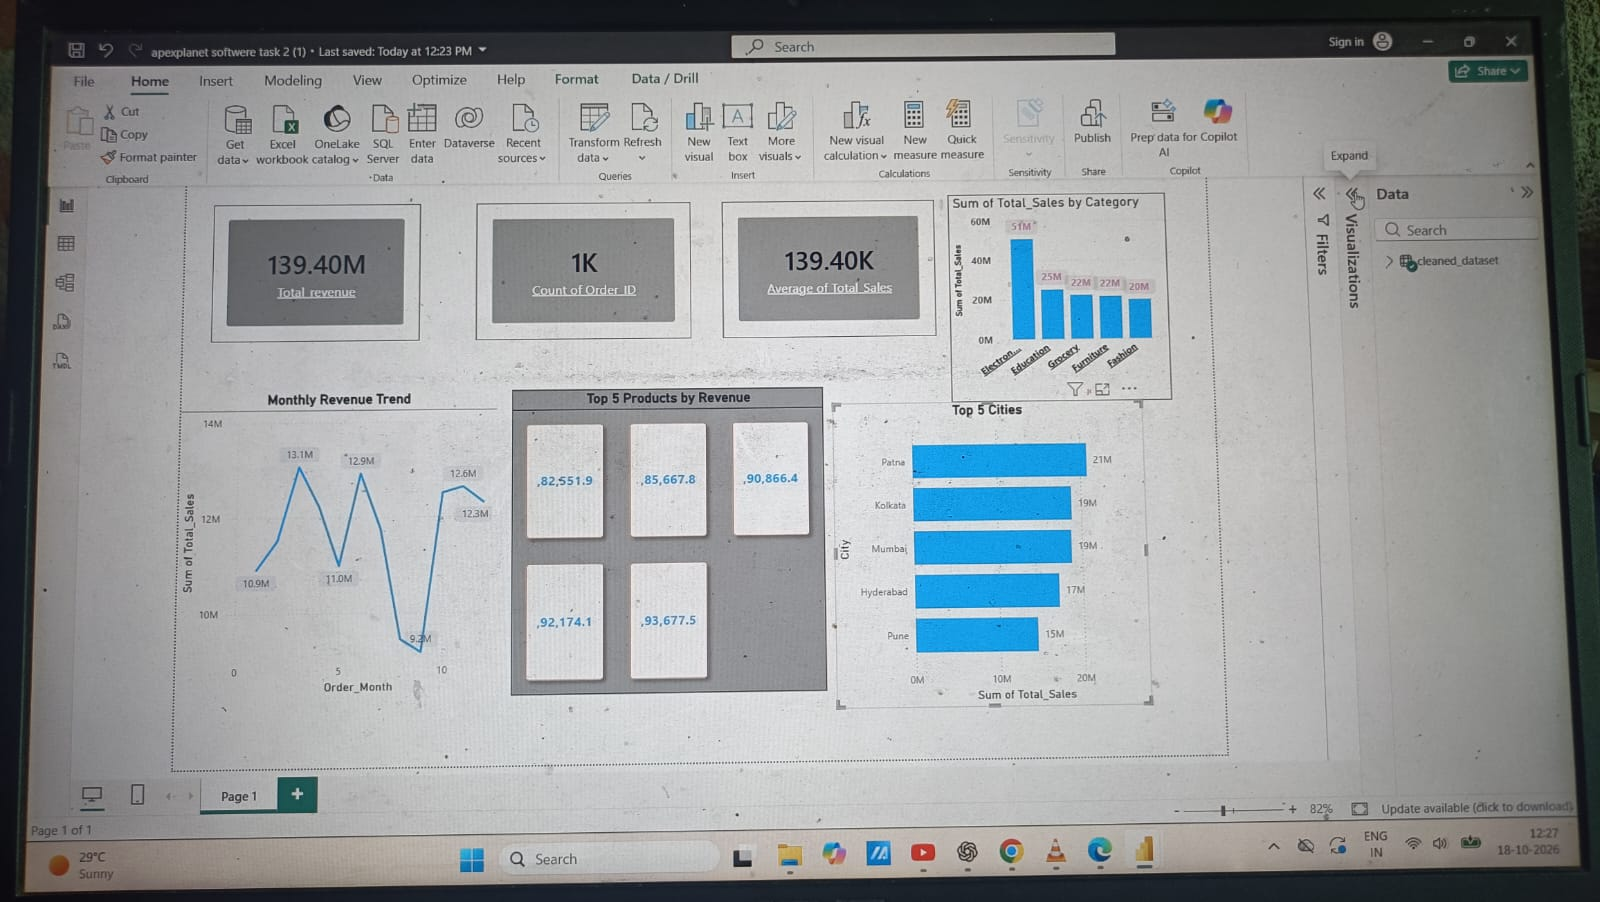

The page's visual inventory and layout, read from the dashboard file:
{"tool":"powerbi","page":{"name":"Page 1","canvas":[1280,720],"ordinal":0},"visuals":[{"type":"cardVisual","fields":{"Data":["Sum(cleaned_dataset.Total_Sales)"]},"box":[34.3,26.1,256.6,172.9],"z":0},{"type":"cardVisual","fields":{"Data":["CountNonNull(cleaned_dataset.Order_ID)"]},"box":[360.9,26.1,267.6,172.9],"z":1000},{"type":"cardVisual","fields":{"Data":["Avg(cleaned_dataset.Total_Sales)"]},"box":[668.3,26.1,267.6,172.9],"z":2000},{"type":"clusteredColumnChart","fields":{"Category":["cleaned_dataset.Category"],"Y":["Sum(cleaned_dataset.Total_Sales)"]},"box":[952.3,19.2,274.4,263.5],"z":3000},{"type":"lineChart","title":"Monthly Revenue Trend","fields":{"Category":["cleaned_dataset.Order_Month"],"Y":["Sum(cleaned_dataset.Total_Sales)"]},"box":[0,260.7,387,374.6],"z":4000},{"type":"advancedSlicerVisual","title":"Top 5 Products by Revenue","fields":{"Values":["cleaned_dataset.Total_Sales"],"Label":["CountNonNull(cleaned_dataset.Product)"]},"box":[406.2,262.1,385.6,374.6],"z":5000},{"type":"barChart","title":"Top 5 Cities","fields":{"Category":["cleaned_dataset.City"],"Y":["Sum(cleaned_dataset.Total_Sales)"]},"box":[804,283,386,375],"z":5001}]}

Visuals, with their boxes on the page's 1280x720 design canvas (x1, y1, x2, y2). These are canvas units, not pixel positions in the 1600x902 screenshot, which may show the page scaled, cropped or inside an application window:
cardVisual - Sum(cleaned_dataset.Total_Sales): select_region(34, 26, 291, 199)
cardVisual - CountNonNull(cleaned_dataset.Order_ID): select_region(361, 26, 628, 199)
cardVisual - Avg(cleaned_dataset.Total_Sales): select_region(668, 26, 936, 199)
clusteredColumnChart - cleaned_dataset.Category x Sum(cleaned_dataset.Total_Sales): select_region(952, 19, 1227, 283)
"Monthly Revenue Trend" lineChart: select_region(0, 261, 387, 635)
"Top 5 Products by Revenue" advancedSlicerVisual: select_region(406, 262, 792, 637)
"Top 5 Cities" barChart: select_region(804, 283, 1190, 658)
